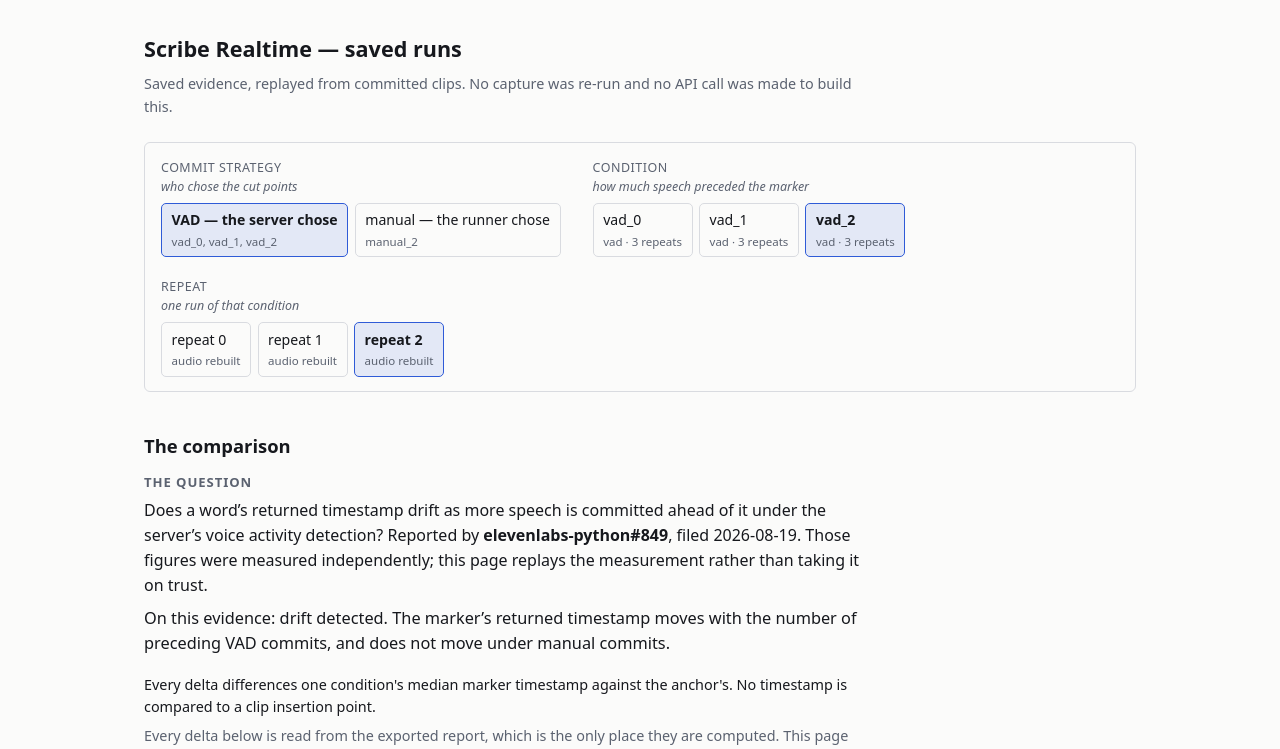
Test case: switching between strategies and conditions › keeps the repeat when the condition changes, so like is compared with like
What coordinates should you click on to do the following:
click the button "vad_1 vad · 3 repeats"
I would click on:
 (749, 230)
Its box is [699, 203, 799, 257].
(page scrolled)
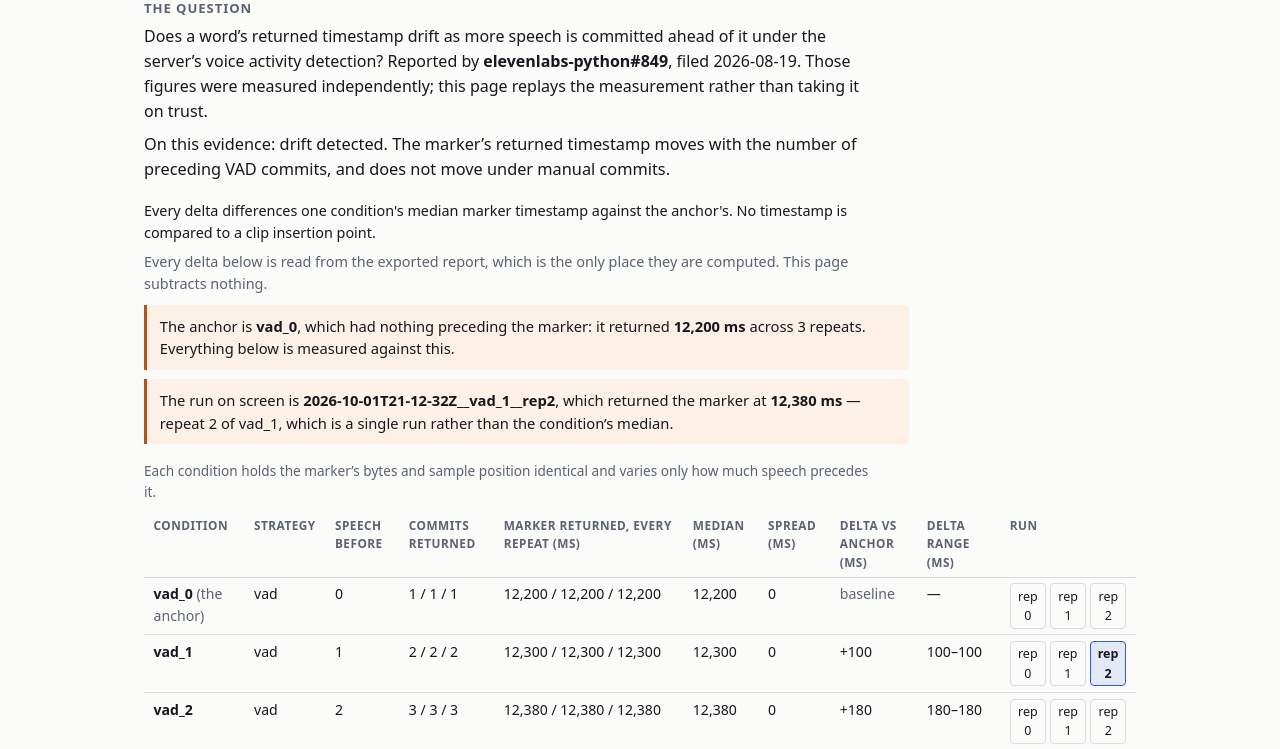
Expected: the text "2026-10-01T21-12-32Z__vad_1__rep2" is shown, [303, 390, 555, 410]
